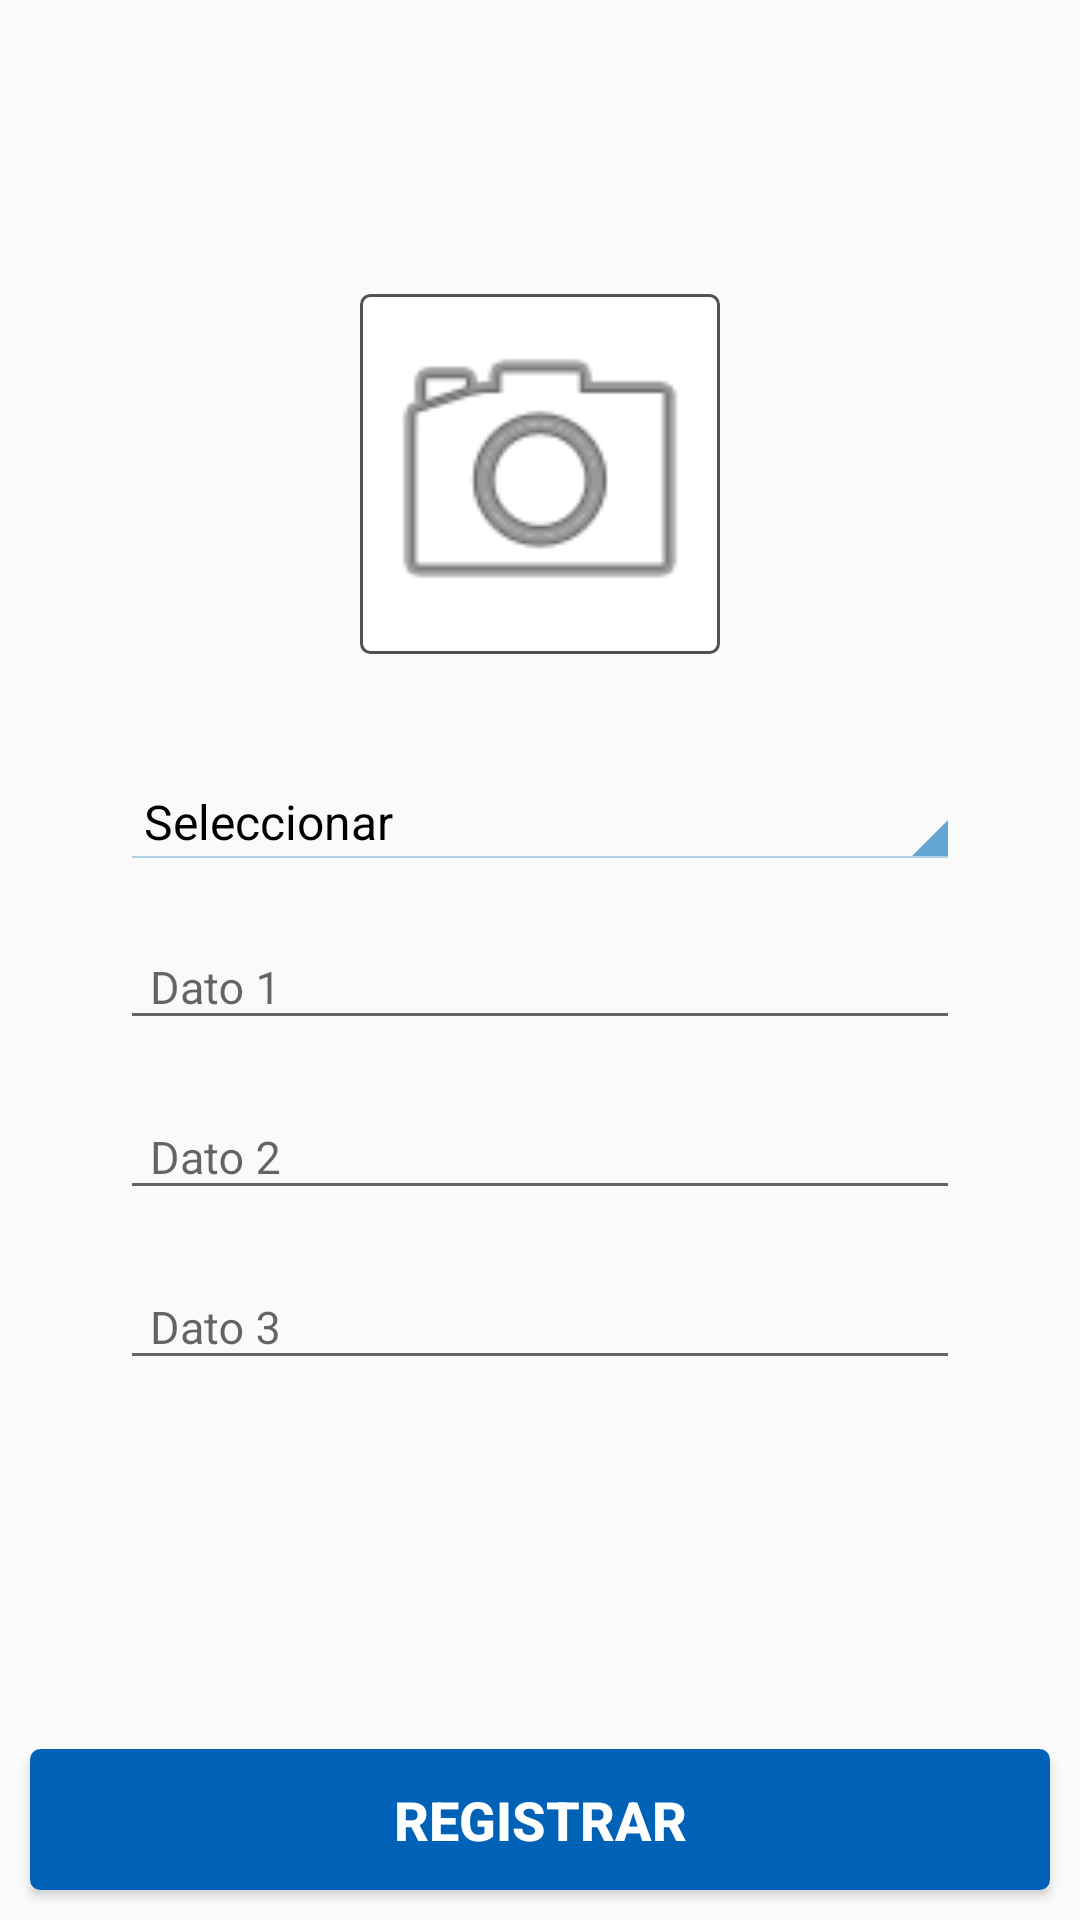

Icon click points for this 1080 x 1920 phone screenshot, format (x=x, y=y):
camera: (x=540, y=474)
